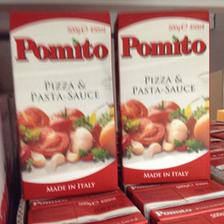Tomatensauce: (7, 7, 118, 201), (114, 7, 214, 184)
